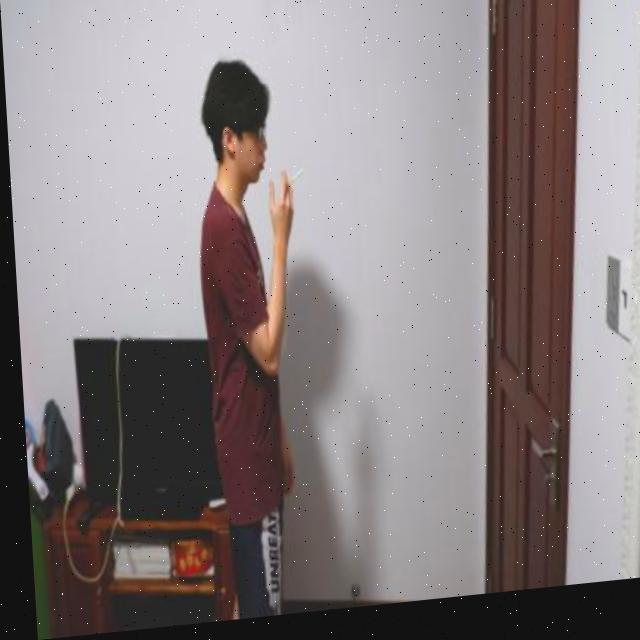cigarette: (286, 174, 302, 193)
